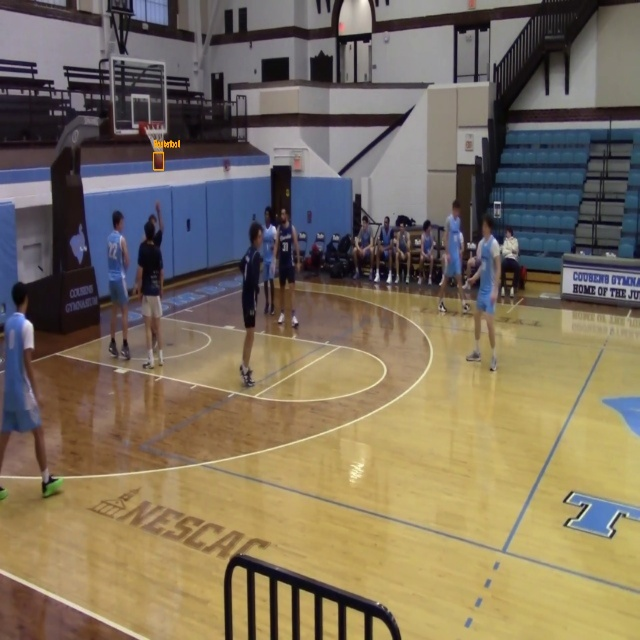Basketball: (154, 153, 164, 170)
